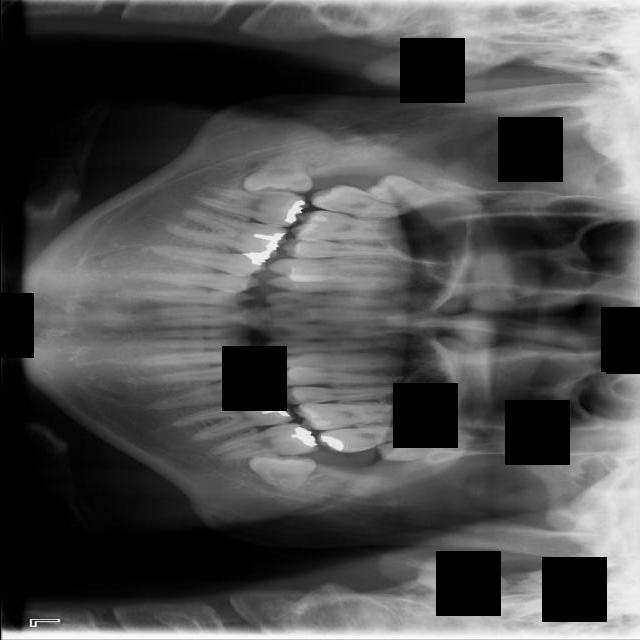3M ESPE Implant: (362, 172, 467, 210)
52: (243, 178, 312, 237), (225, 213, 289, 265), (259, 419, 319, 460), (287, 208, 353, 243), (232, 392, 295, 428), (218, 251, 267, 279)
73: (76, 569, 90, 576)
BioHorizons Implant: (314, 422, 438, 456)
BioLife Implant: (375, 442, 458, 461)
Biomet 3i Implant: (246, 451, 316, 492)
Blue Sky Bio Implant: (205, 419, 318, 466)
Caries: (308, 179, 416, 226)
Implant: (190, 182, 309, 231)
Keystone Dental Implant: (241, 153, 313, 197)
